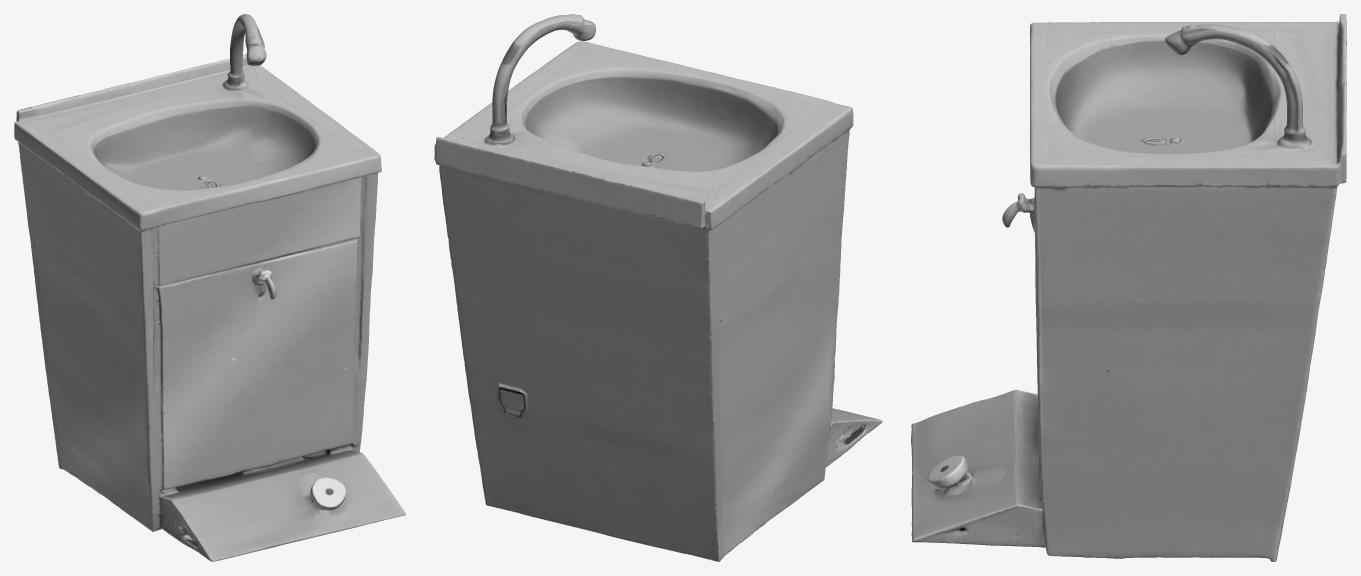
The model's file is lavabo.glb.
3 renders of one model, left to right at view 1: azimuth 30°, elevation 25°; view 2: azimuth 150°, elevation 25°; view 3: azimuth 270°, elevation 25°, orthographic. The views are drawn at different scales.
Bounding box in the file's own units: 1.21 × 2 × 1.53.
1 material, 1 textured.
